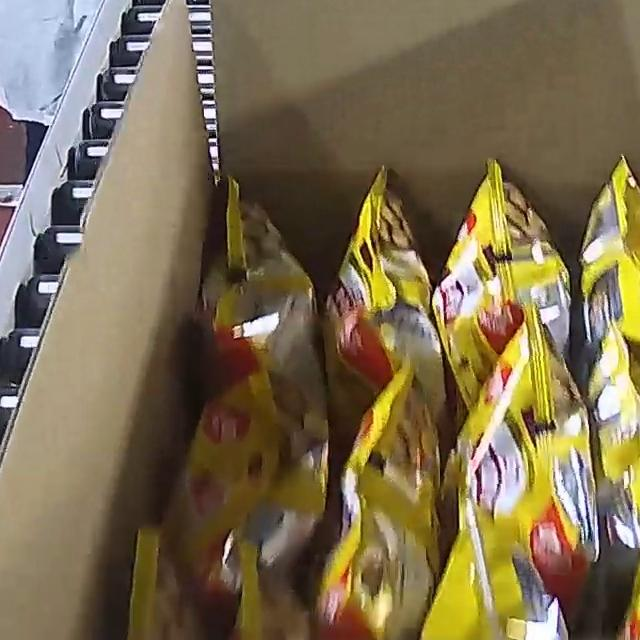salted: (132, 151, 640, 640)
